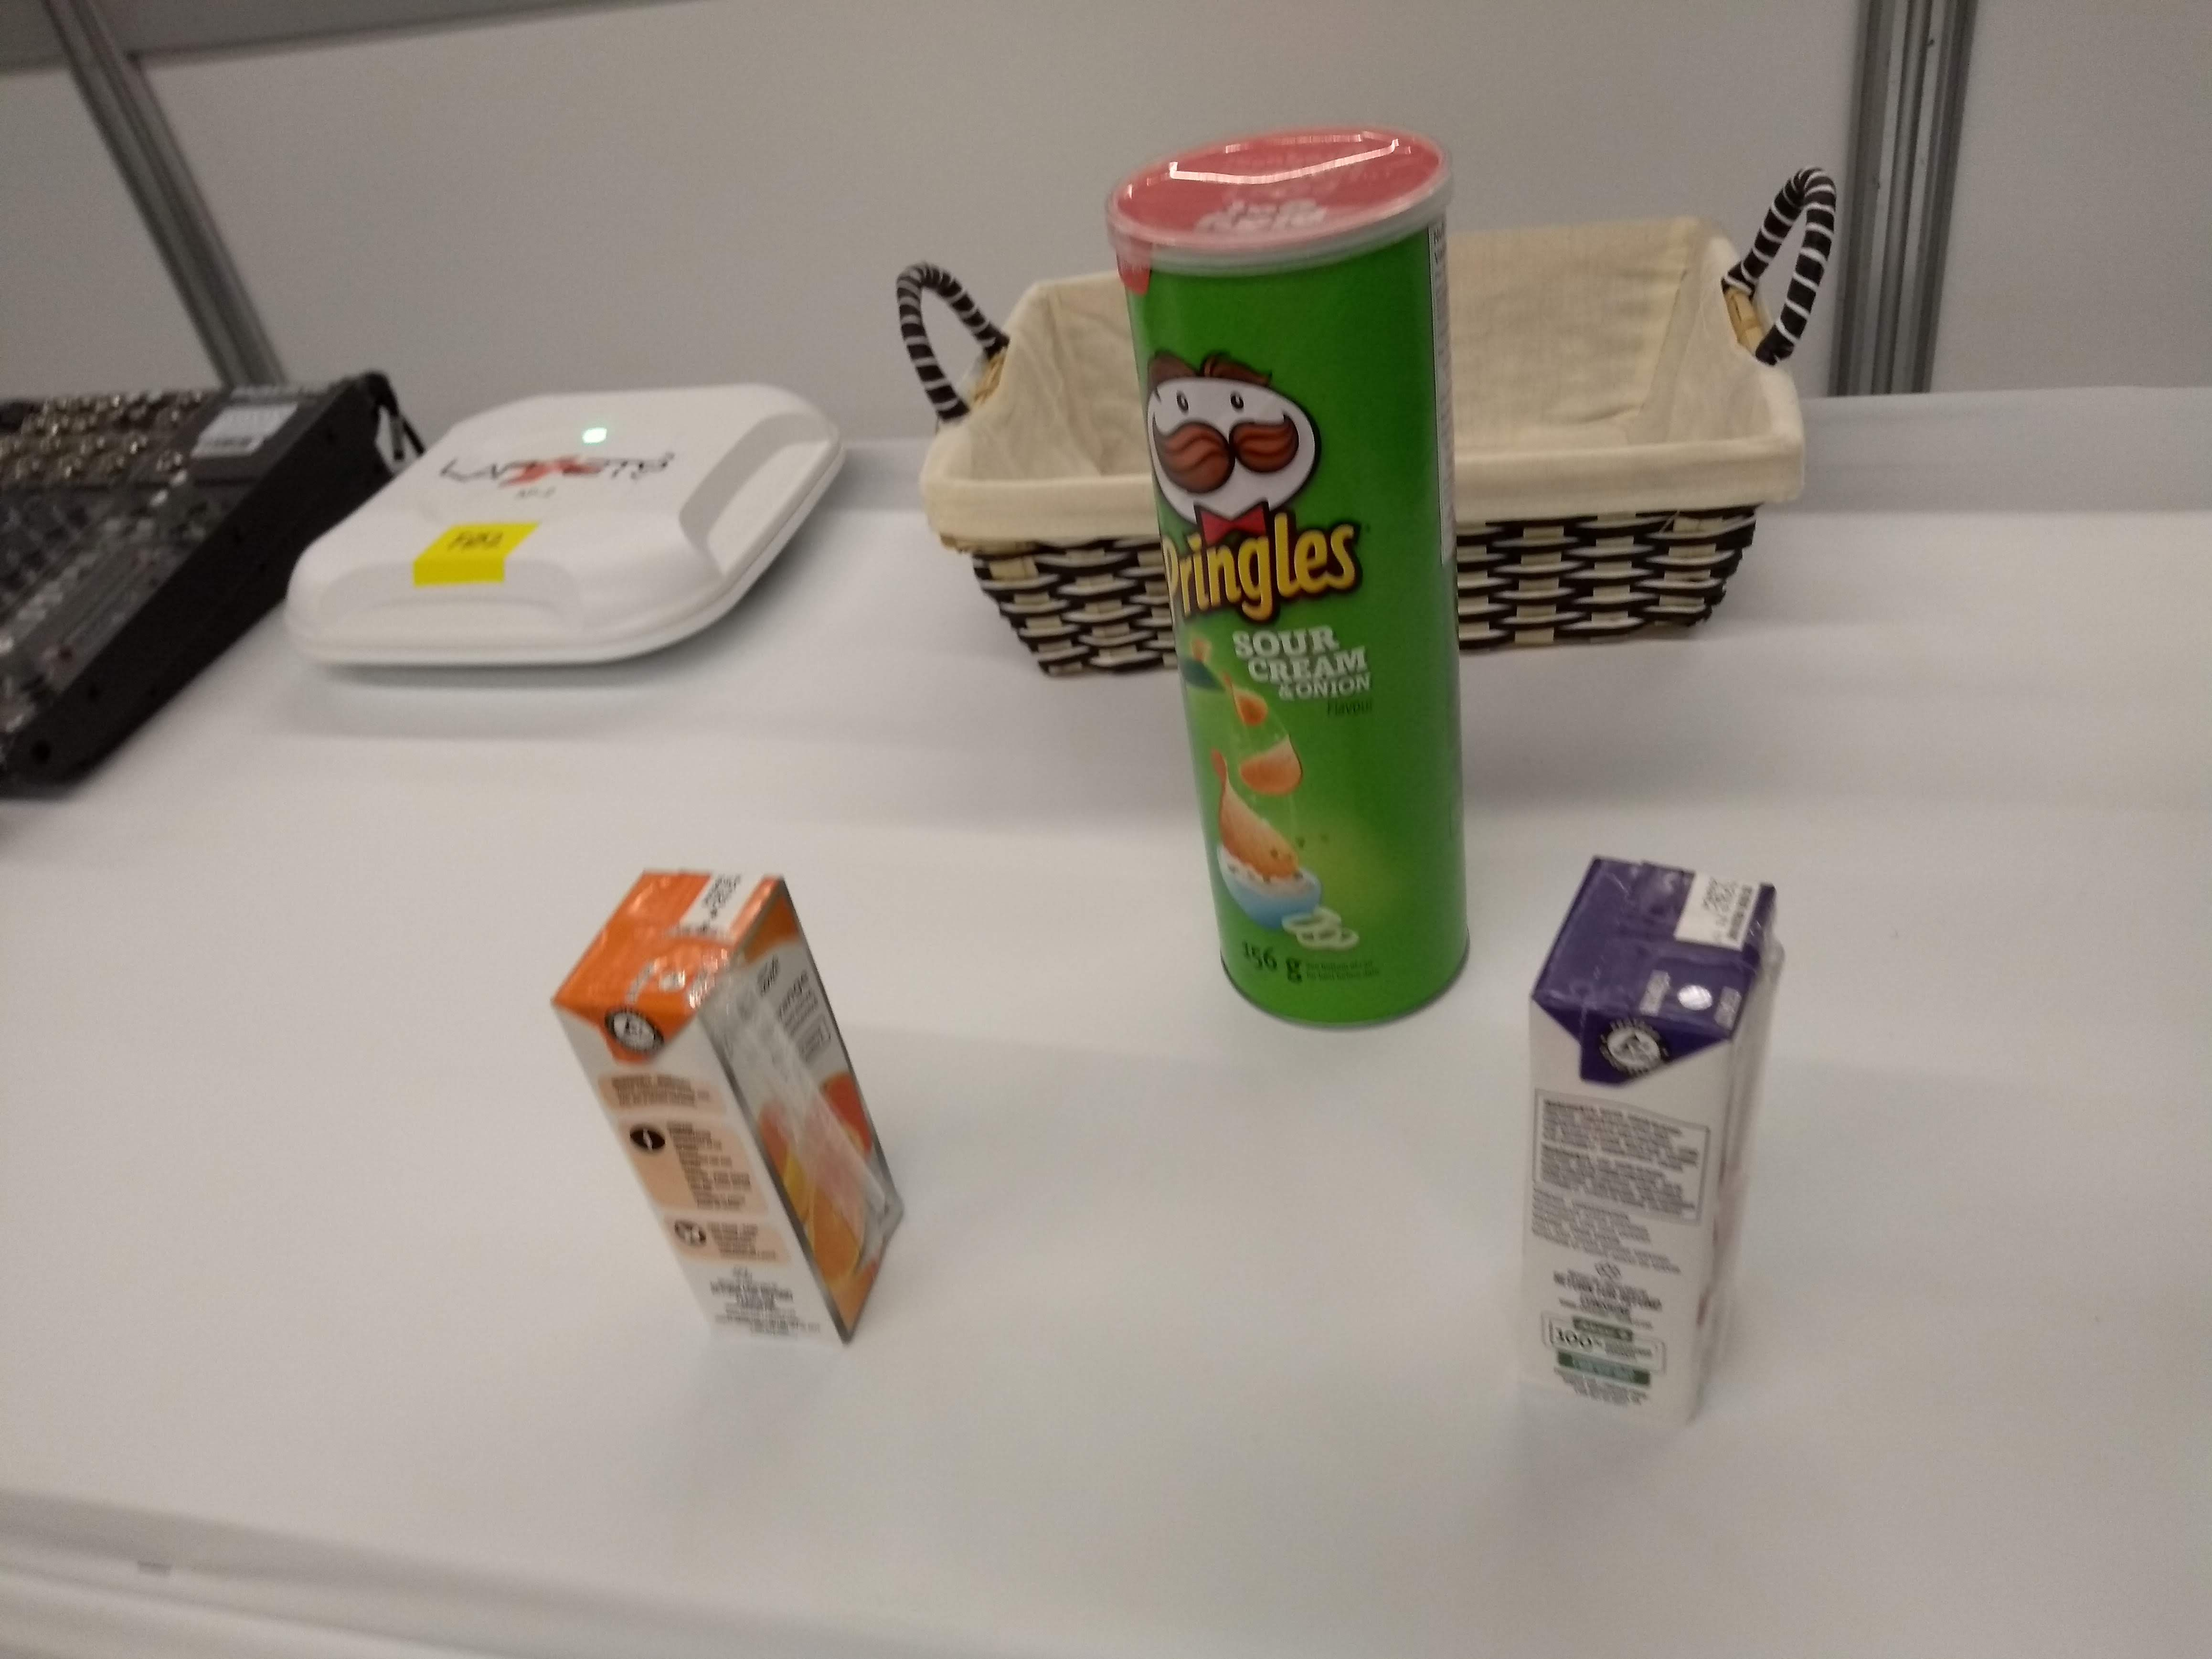grape_juice: (1510, 838, 1784, 1441)
orange_juice: (521, 859, 920, 1361)
pringles: (1099, 117, 1482, 1035)
